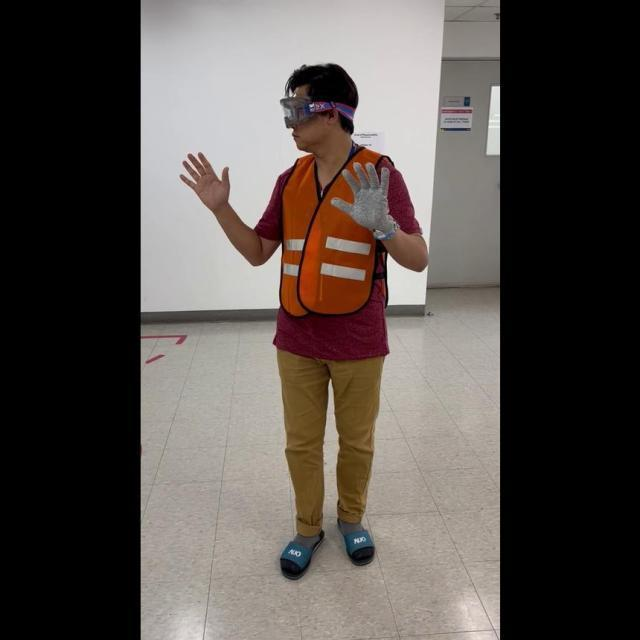bare_hand: (178, 146, 231, 211)
gloved_hand: (332, 156, 398, 237)
